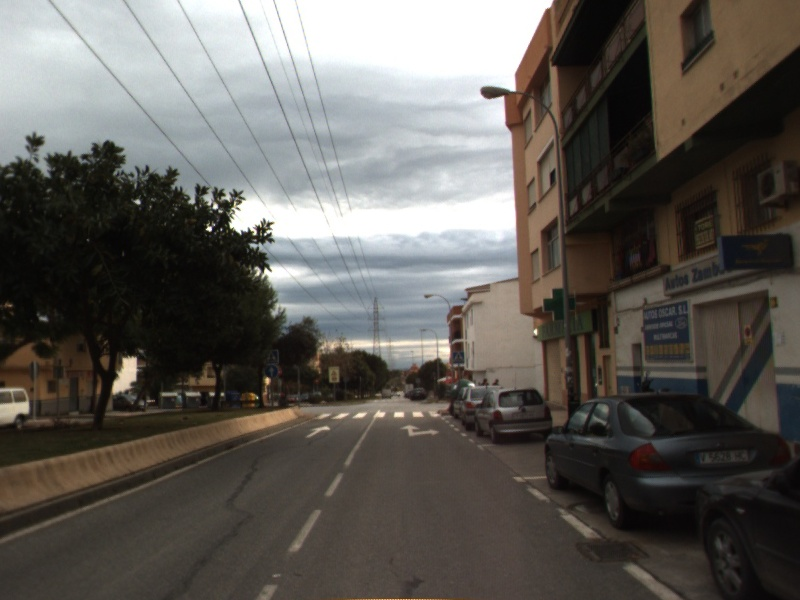STRAIGHT: (303, 423, 333, 440)
STRAIGHT_RIGHT: (398, 422, 442, 439)
